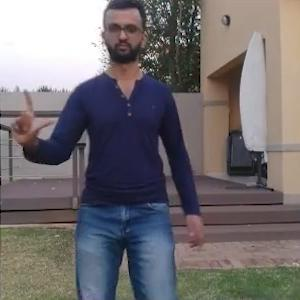land_hand: (7, 82, 57, 148)
